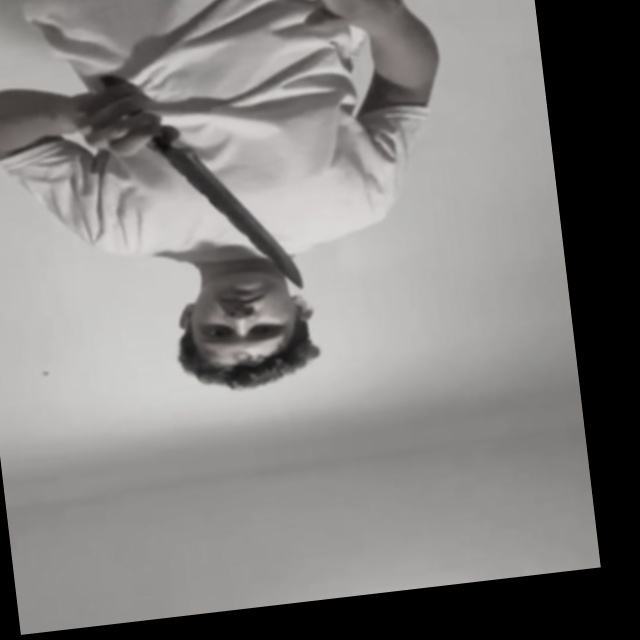Sharp-Object: (162, 135, 301, 298)
